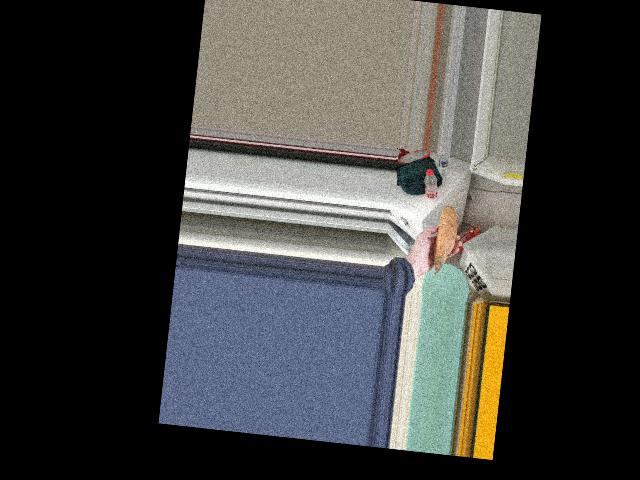sweet_potato: (430, 210, 455, 272)
